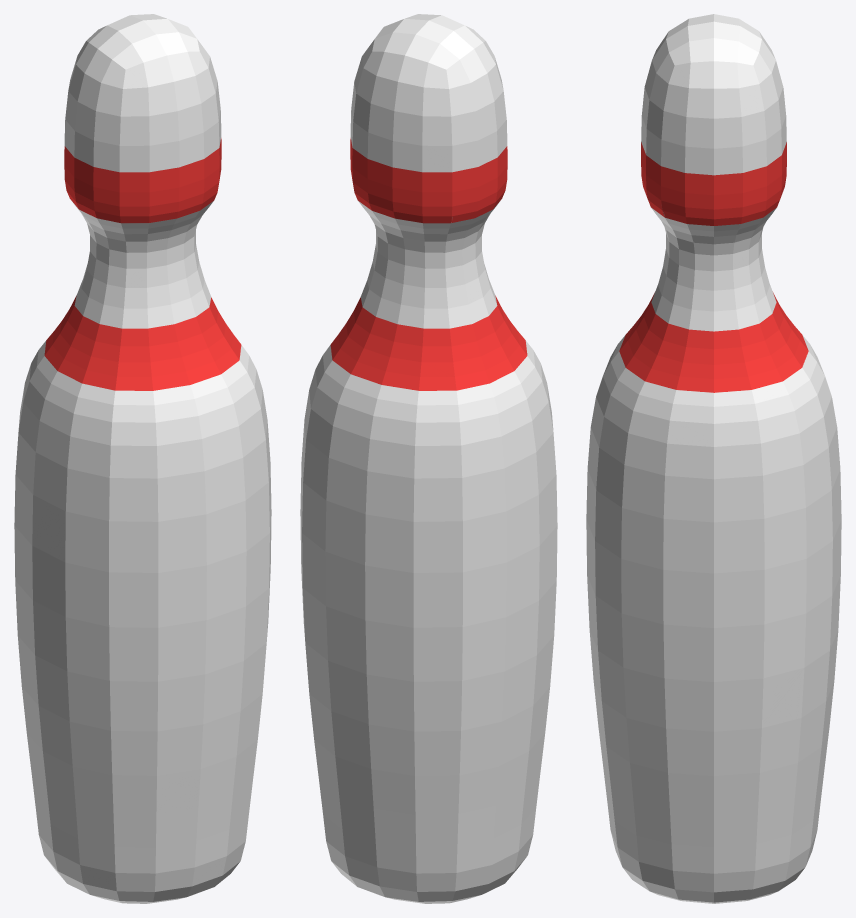
File: pin.obj
The picture shows the model from 3 angles, left to right: view 1: azimuth 30°, elevation 25°; view 2: azimuth 150°, elevation 25°; view 3: azimuth 270°, elevation 25°; orthographic projection.
Visible parts, largest first — view 1: Cube; view 2: Cube; view 3: Cube.
Boxes of the visible parts, <box> form: Cube: <box>14,14,271,903</box>; Cube: <box>300,14,557,903</box>; Cube: <box>586,14,841,903</box>.
Size of the model in its own units: 0.3106 by 1.16 by 0.3104.
Materials: 1 (1 with a texture image).
